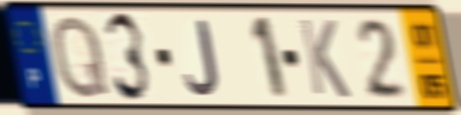1: (250, 14, 290, 103)
2: (355, 16, 411, 102)
3: (101, 10, 154, 105)
J: (182, 17, 222, 98)
K: (296, 16, 353, 102)
Q: (49, 11, 113, 102)
